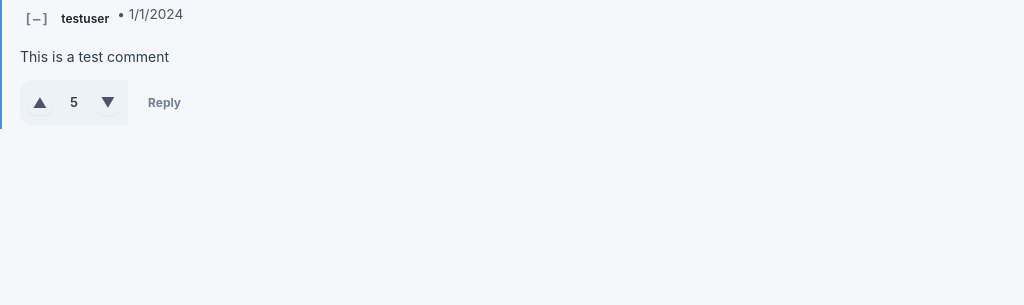
CommentItem Component › should show reply form when reply button is clicked
Click the button "Reply": (164,102) left=144, top=93, right=185, bottom=112
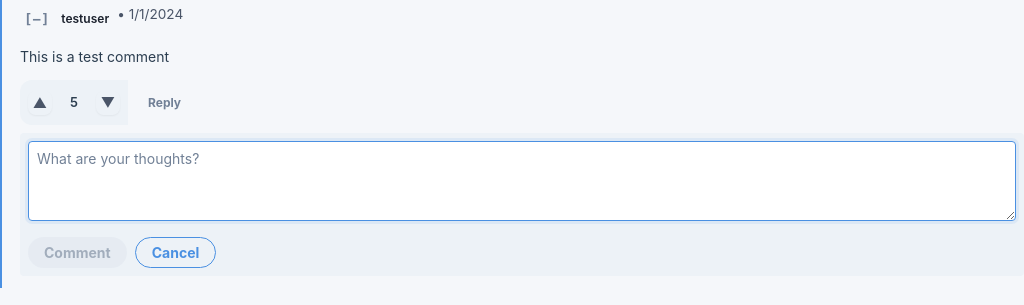
Expected: the text box with placeholder "What are your thoughts?" is shown, left=28, top=141, right=1016, bottom=221
